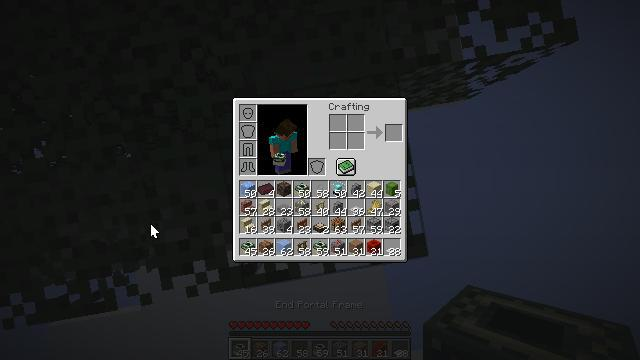cursor: (150, 223, 160, 239)
